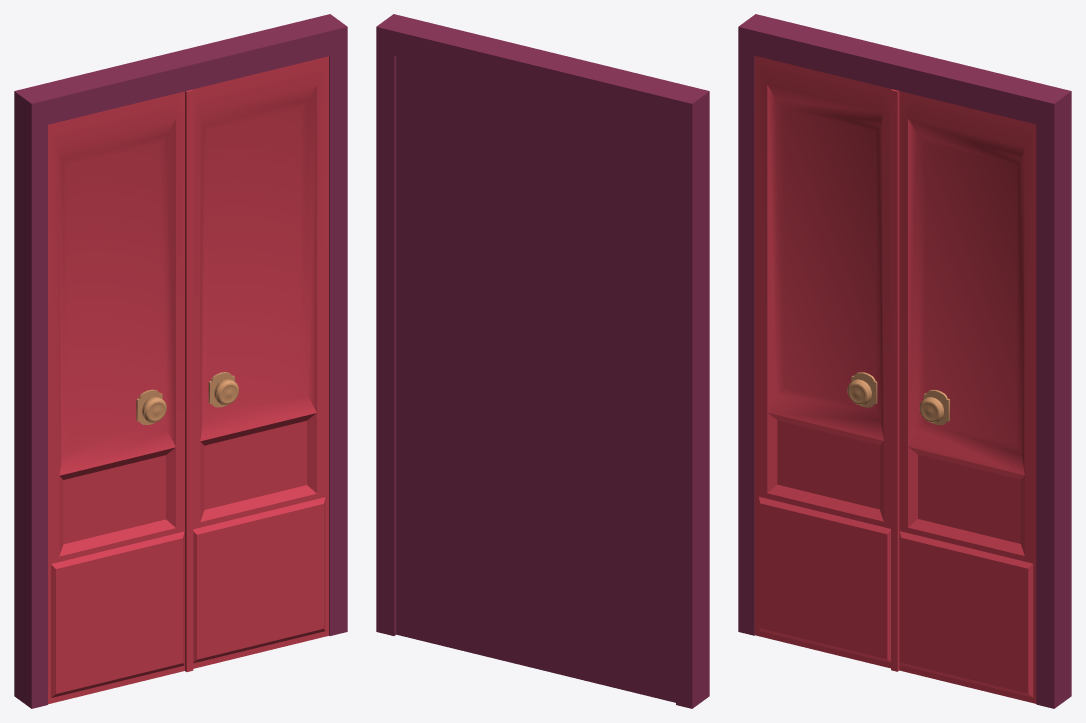
Rendered from SM_Door.fbx.
3 renders of one model, left to right at view 1: azimuth 30°, elevation 25°; view 2: azimuth 150°, elevation 25°; view 3: azimuth 330°, elevation 25°, orthographic.
Visible parts, largest first — view 1: SM_exitDoor; view 2: SM_exitDoor; view 3: SM_exitDoor.
Boxes of the visible parts, x1=… form: SM_exitDoor: x1=14, y1=14, x2=347, y2=708; SM_exitDoor: x1=376, y1=14, x2=709, y2=708; SM_exitDoor: x1=738, y1=14, x2=1071, y2=708.
Size of the model in its own units: 1.5 by 2.75 by 0.1723.
